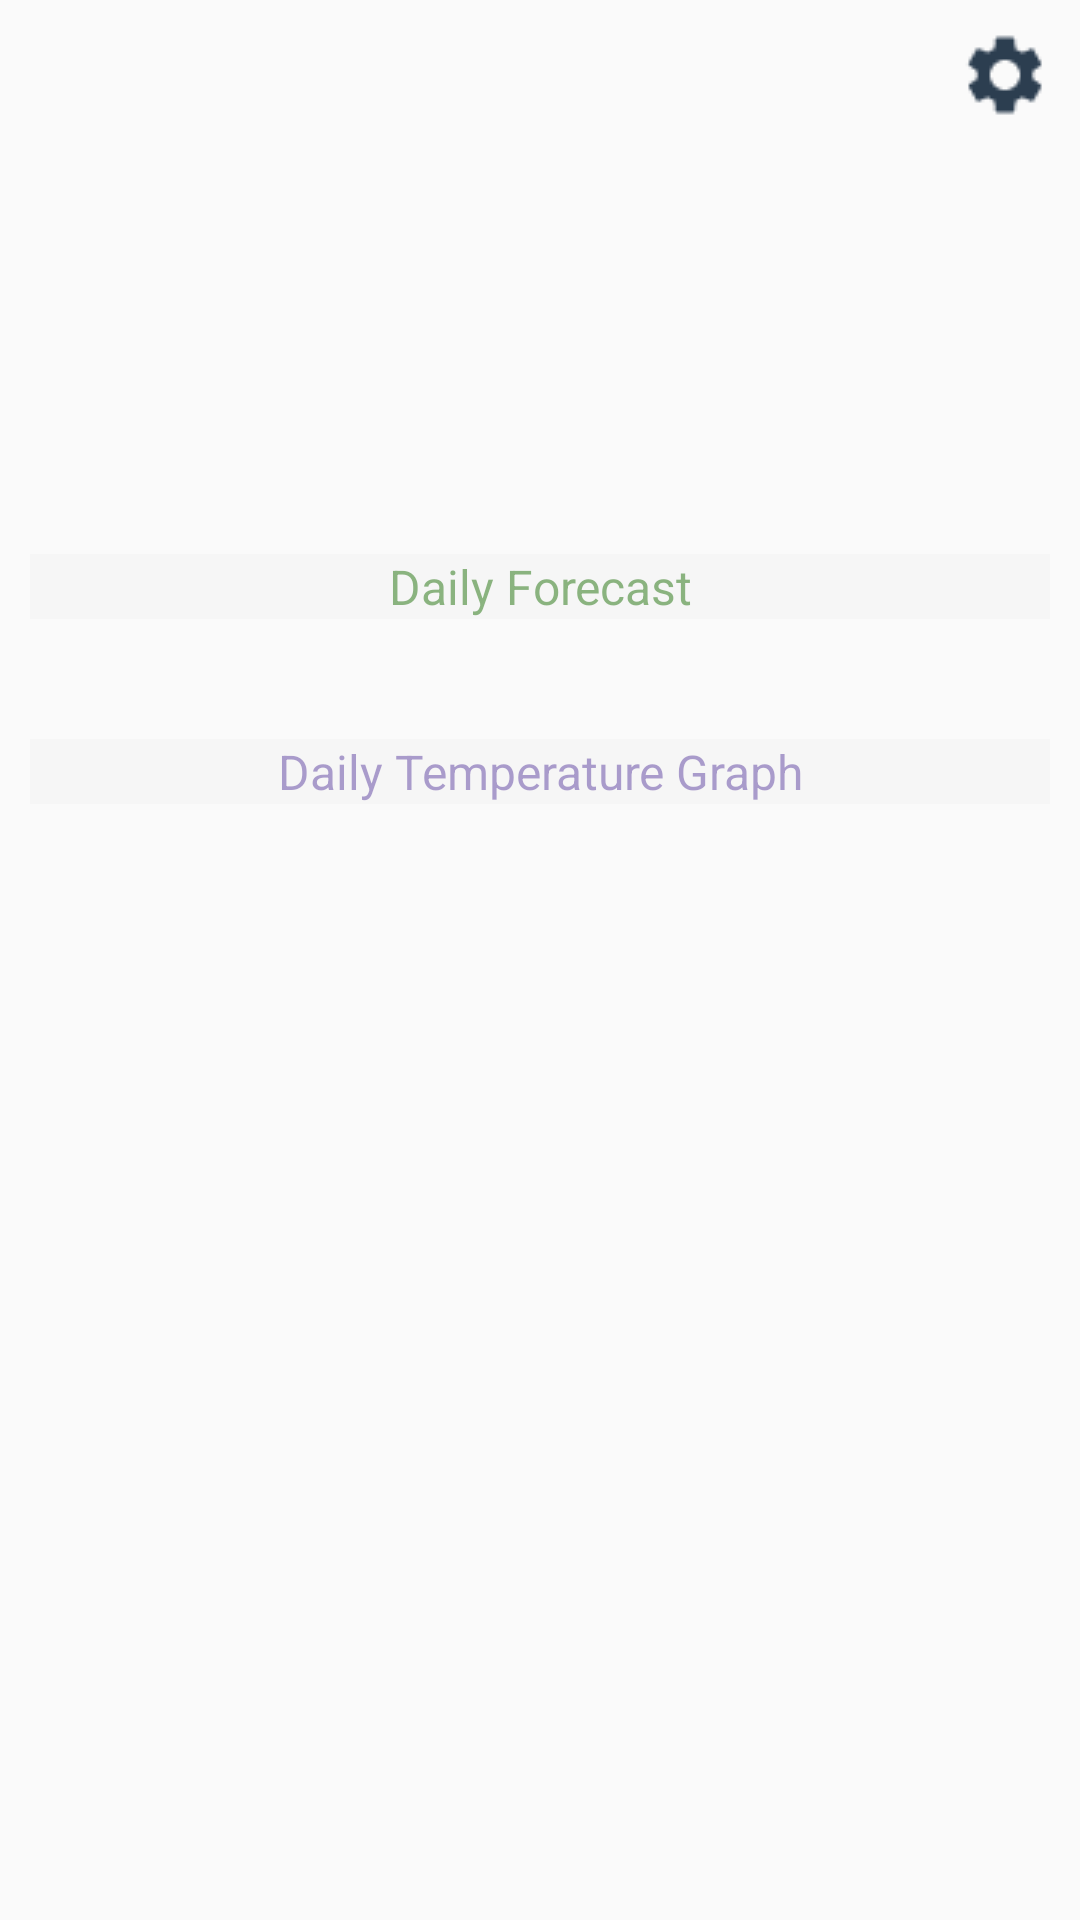

Icons on this 1080×1920 Android screen, each with the point to tap as [x,y]:
settings: [1005,75]
